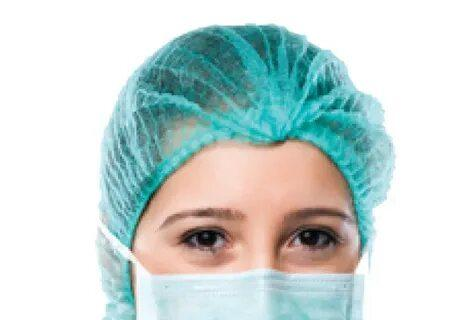hairnet: (63, 27, 412, 297)
mask: (111, 229, 378, 320)
